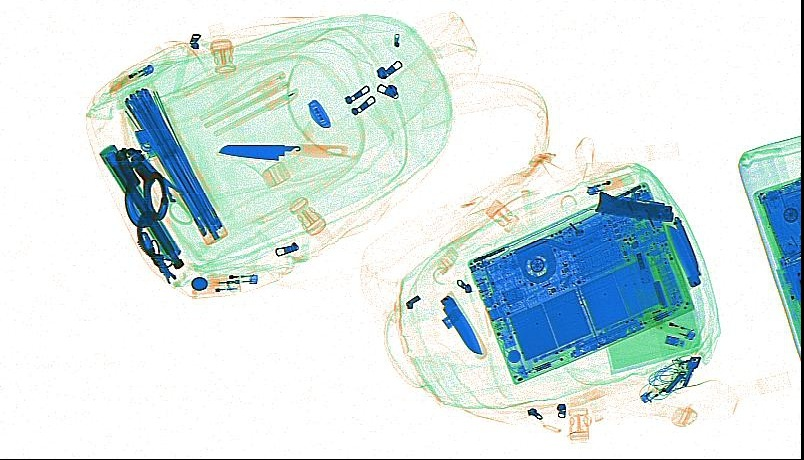handcuffs: (116, 147, 176, 283)
knife: (440, 294, 487, 358), (594, 191, 674, 221), (216, 143, 346, 160), (666, 225, 701, 287), (673, 216, 698, 269)
lighter: (108, 63, 154, 93), (642, 313, 695, 339), (586, 172, 633, 195), (191, 280, 239, 298), (208, 272, 257, 284)
scissors: (133, 149, 207, 225)
